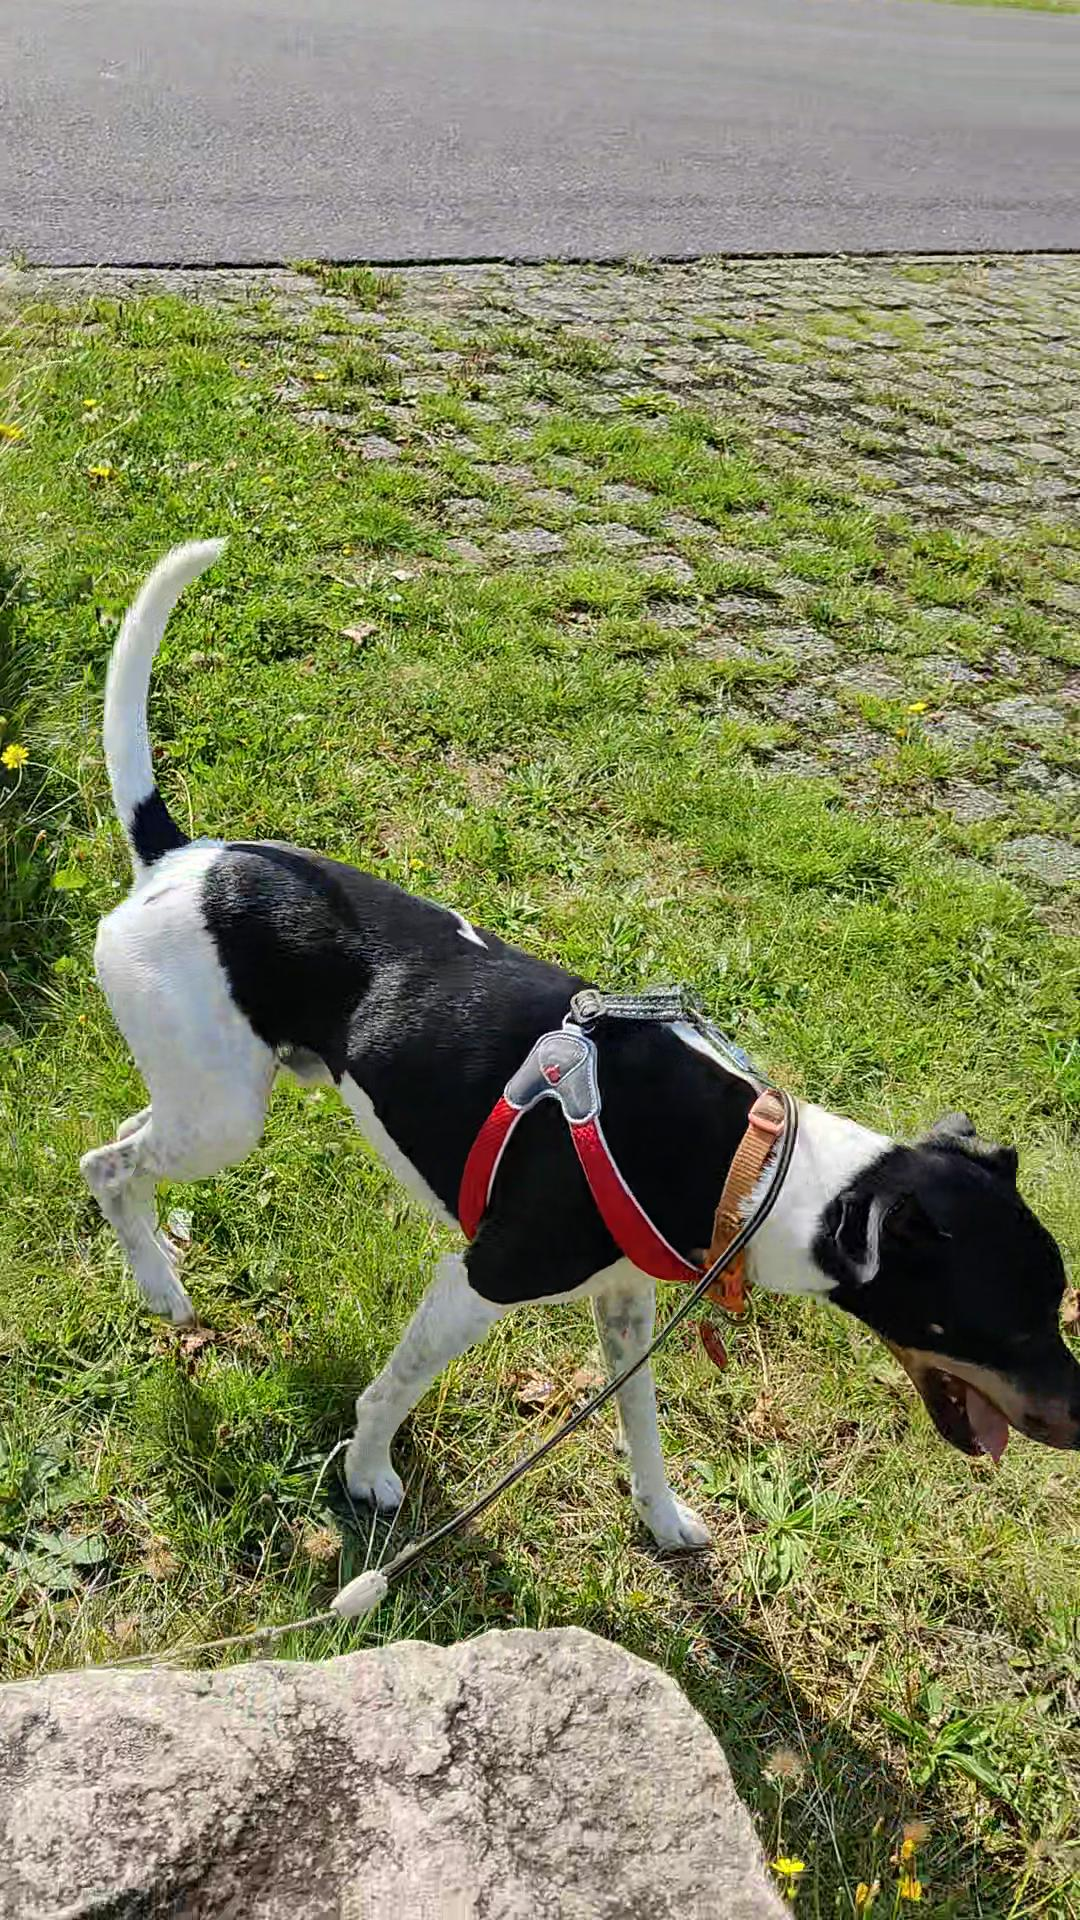Dog: (41, 487, 1079, 1582)
